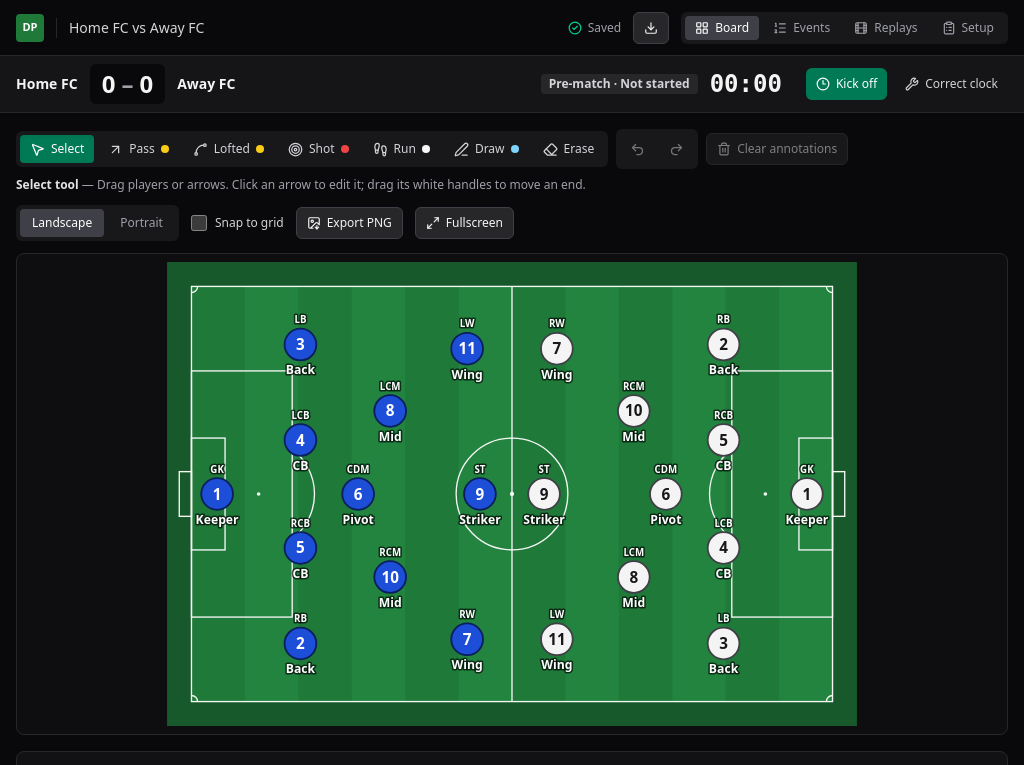
Test: fullscreen pitch (native Fullscreen API) › exits through the button and restores the original controls
Click the button "Fullscreen" at x=464, y=223, box [415,207,514,239]
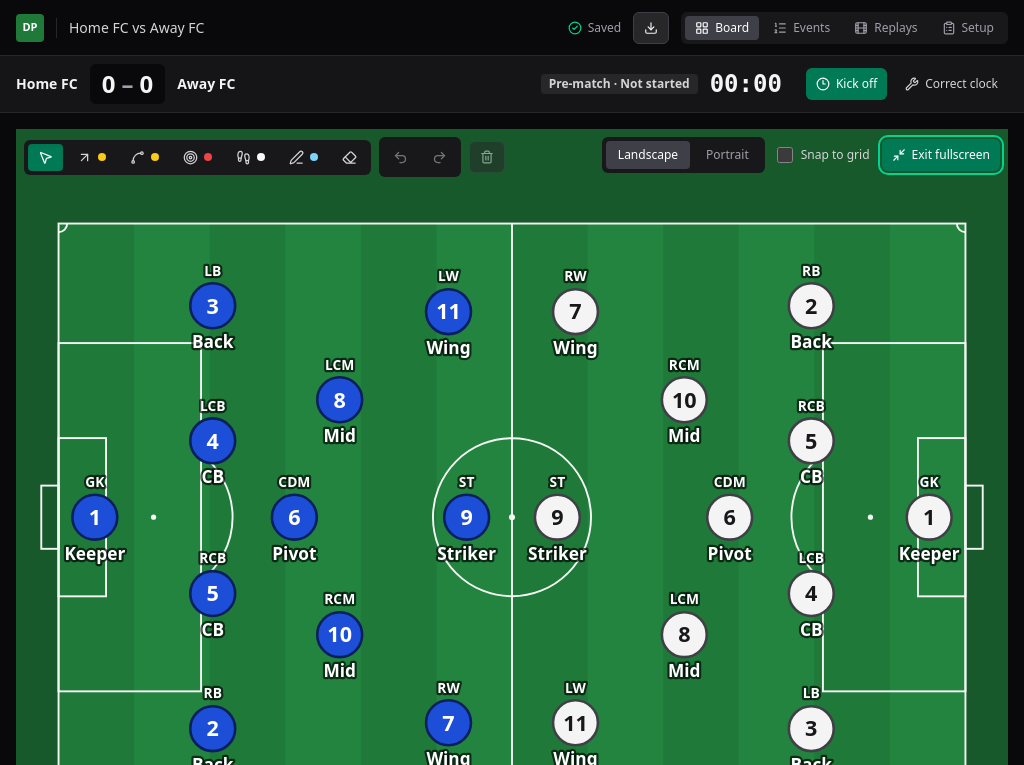
Click the button "Exit fullscreen" at x=941, y=155, box [882,139,1000,171]
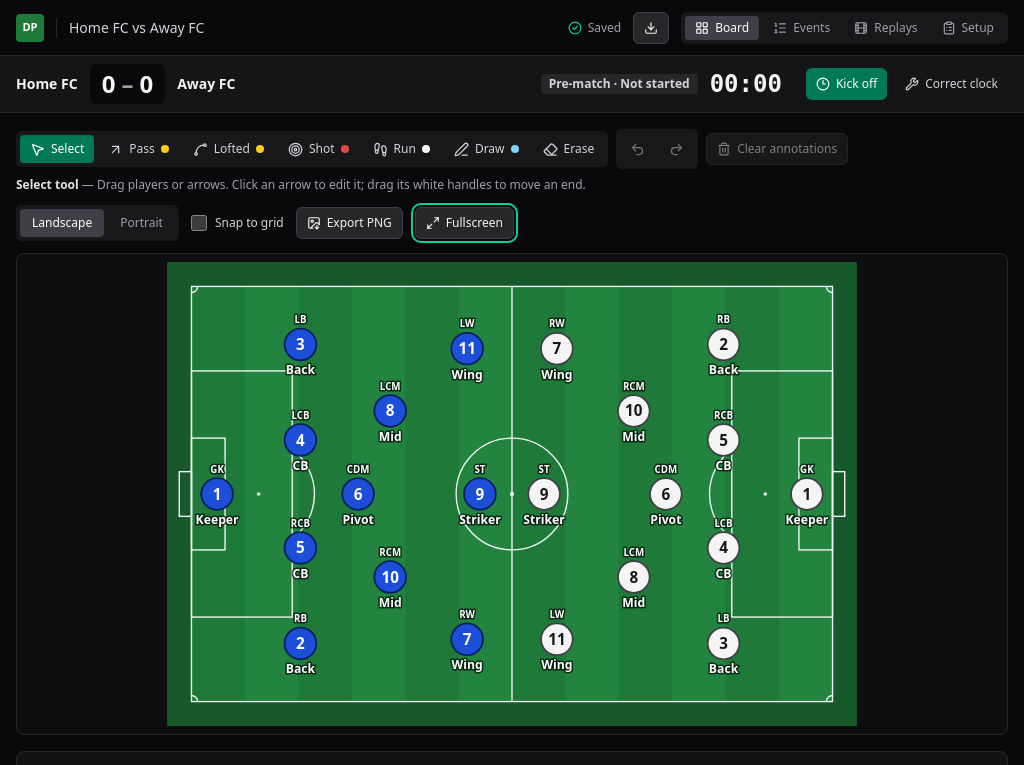
expect the button "Fullscreen" is shown: met, box [415,207,514,239]
expect the button "Export PNG" is shown: met, box [296,207,403,239]
